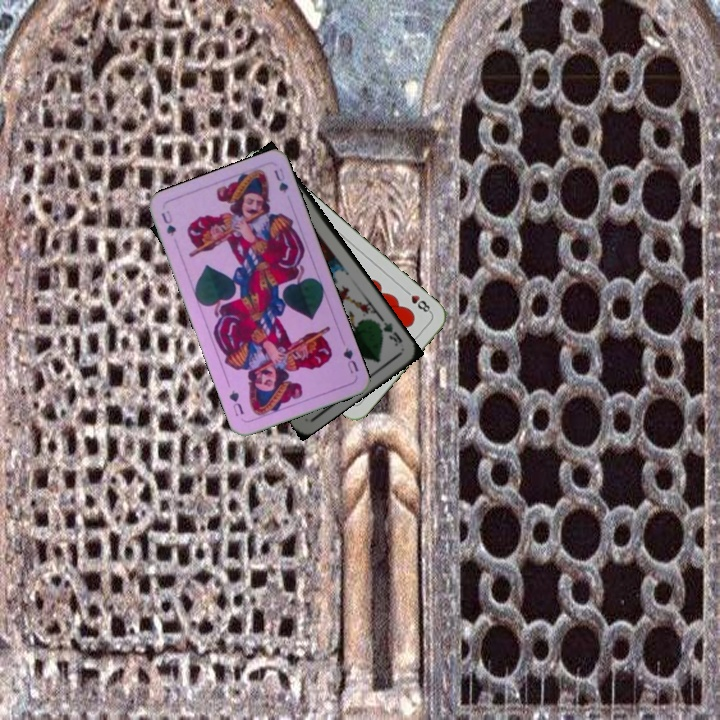GK: (372, 314, 405, 349)
GU: (157, 206, 179, 239), (339, 344, 361, 376)
H8: (400, 285, 434, 316)
